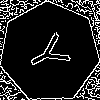Y: (24, 27, 80, 78)
